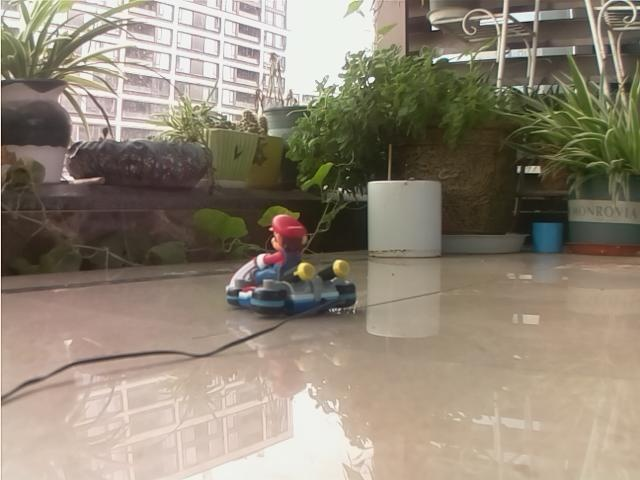mario: (214, 207, 376, 326)
